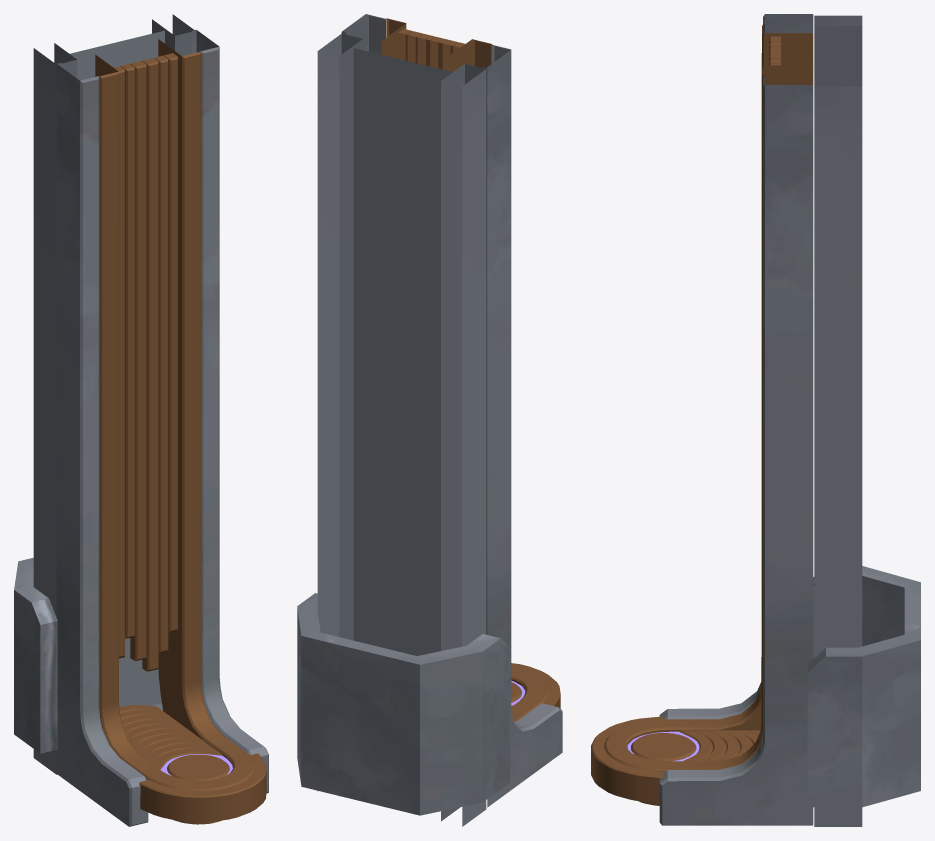
File: Door_low.fbx
3 renders of one model, left to right at view 1: azimuth 30°, elevation 25°; view 2: azimuth 150°, elevation 25°; view 3: azimuth 270°, elevation 25°, orthographic. The views are drawn at different scales.
Parts seen in each view (by area): view 1: Door, Door_Metal, switch4, switch3, switch5, switch6, switch2, switch1; view 2: Door, Door_Metal; view 3: Door, Door_Metal.
Part boxes in pixels (<box>): Door: <box>14,14,268,826</box>; Door_Metal: <box>95,39,266,824</box>; switch4: <box>142,58,158,671</box>; switch3: <box>130,61,146,661</box>; switch5: <box>154,55,168,653</box>; switch6: <box>164,53,177,632</box>; switch2: <box>120,63,134,638</box>; switch1: <box>114,66,124,658</box>; Door: <box>297,14,562,826</box>; Door_Metal: <box>381,18,560,722</box>; Door: <box>659,14,920,826</box>; Door_Metal: <box>591,24,812,805</box>.
Size of the model in its own units: 1600 by 6114 by 2461.
